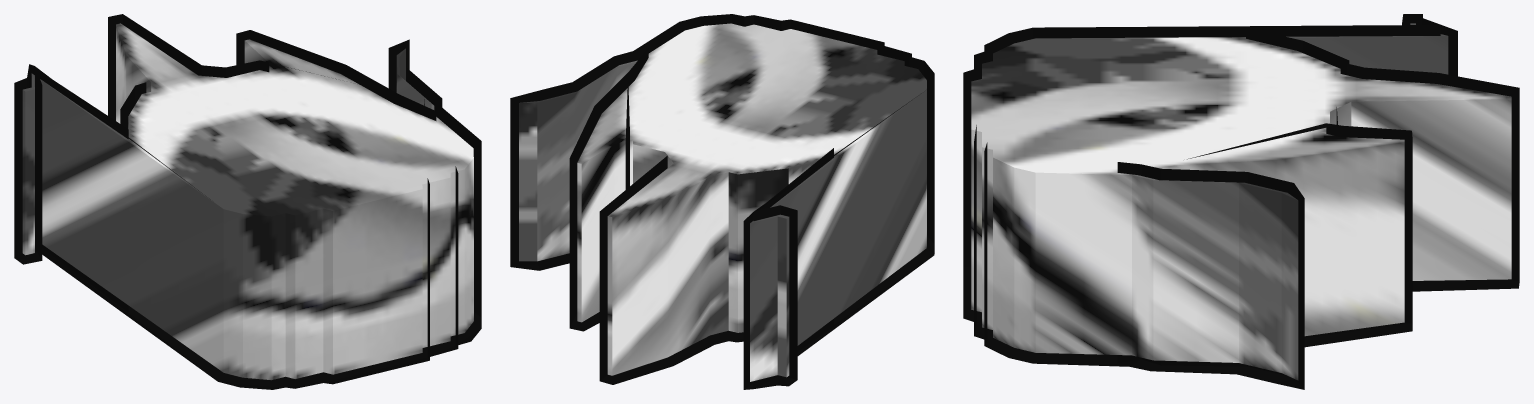
Rendered from Building_SculptureLarge_Things_Building_Art_SculptureLarge_SculptureLargeAbstractA.glb.
3 views of the same model, side by side, from view 1: azimuth 30°, elevation 25°; view 2: azimuth 150°, elevation 25°; view 3: azimuth 270°, elevation 25° (orthographic). The views are drawn at different scales.
Visible parts, largest first — view 1: Body, Outline; view 2: Body, Outline; view 3: Body, Outline.
Boxes of the visible parts, x1,y1,x2,y2 form: Body: (22, 23, 473, 380); Outline: (14, 14, 481, 389); Body: (519, 23, 926, 381); Outline: (510, 14, 934, 389); Body: (971, 23, 1511, 380); Outline: (963, 14, 1519, 389).
Bounding box in the file's own units: 0.5664 × 0.2903 × 0.7256.
Materials: 2 (1 with a texture image).
